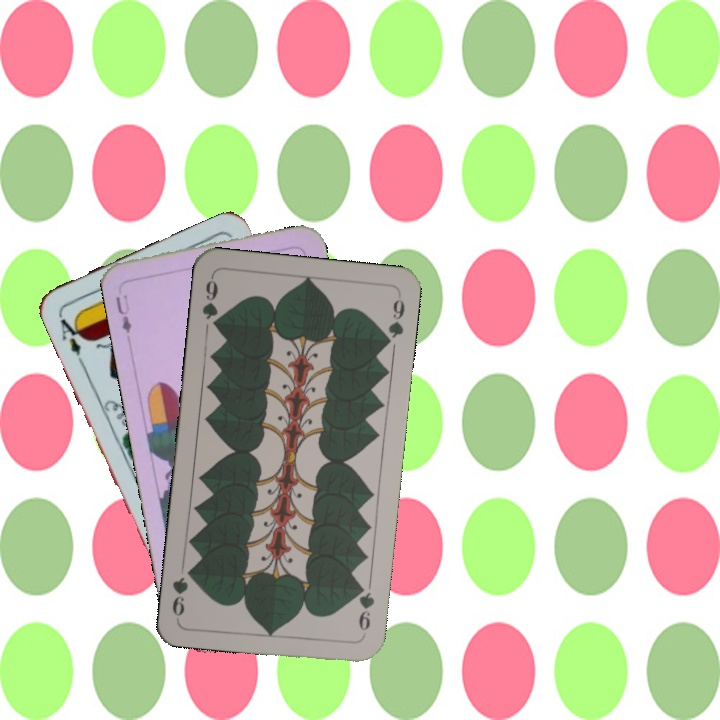EA: (54, 310, 88, 358)
EU: (111, 291, 134, 336)
G9: (198, 272, 222, 332), (354, 579, 377, 639)
